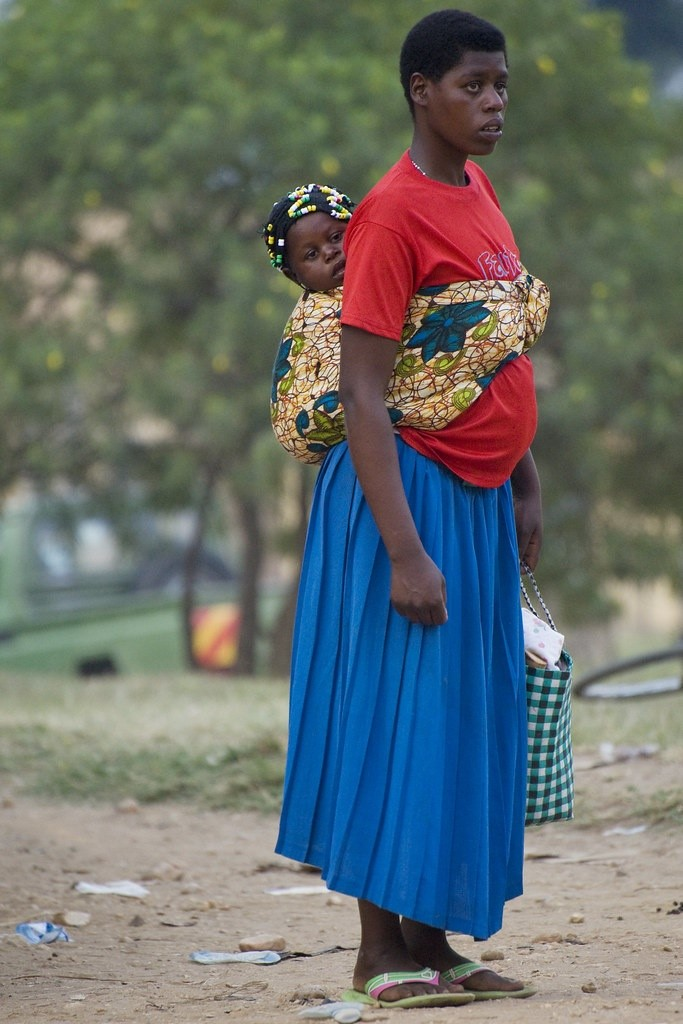face_no_mask: (400, 11, 506, 161)
